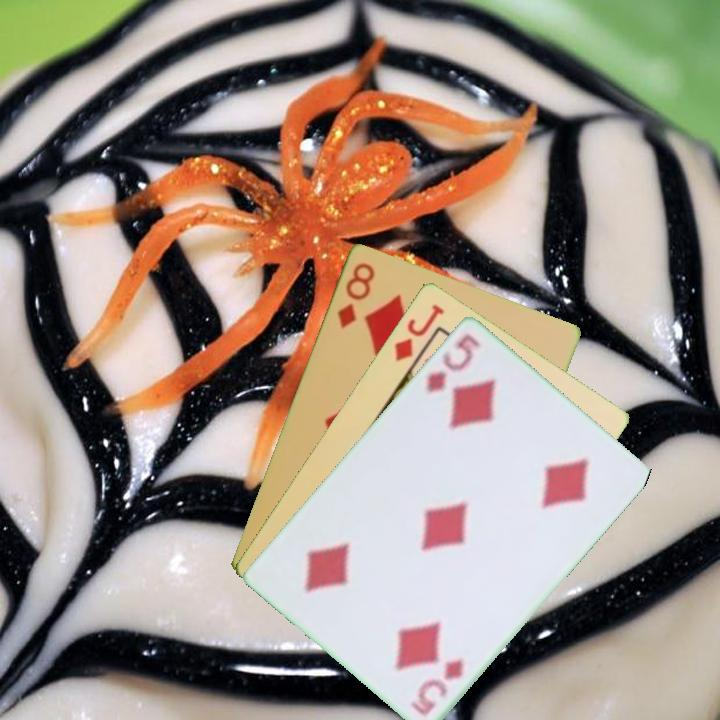5d: (422, 329, 484, 396), (407, 653, 467, 719)
8d: (333, 258, 378, 331)
Jd: (390, 299, 447, 364)
